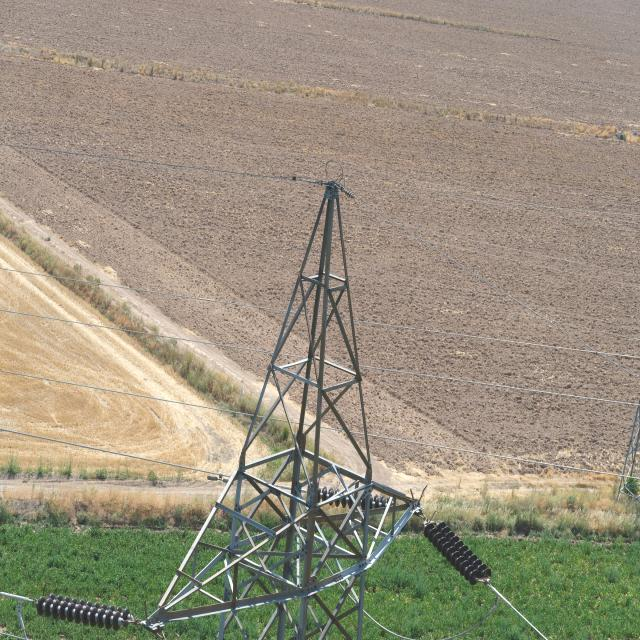voltage_line: (159, 182, 421, 640)
